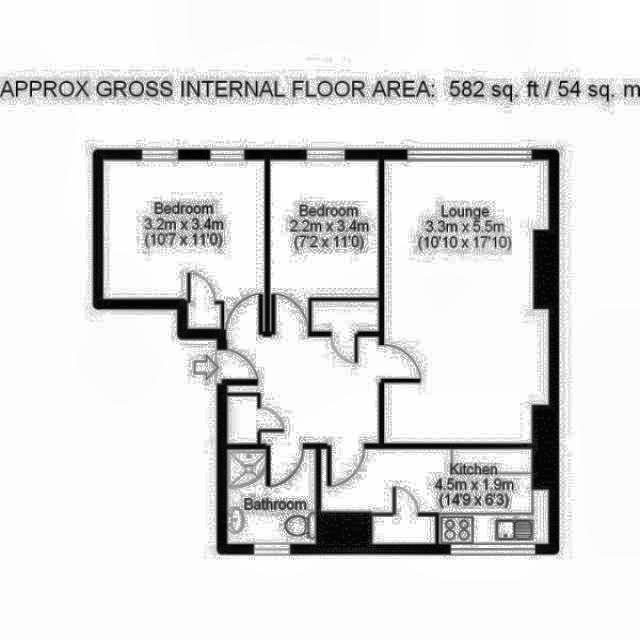room: (384, 160, 550, 443), (103, 159, 265, 330), (321, 449, 549, 544), (269, 159, 379, 336), (226, 337, 379, 443), (227, 449, 316, 543), (311, 300, 379, 332), (372, 516, 436, 544), (228, 396, 258, 443), (188, 303, 221, 329)
